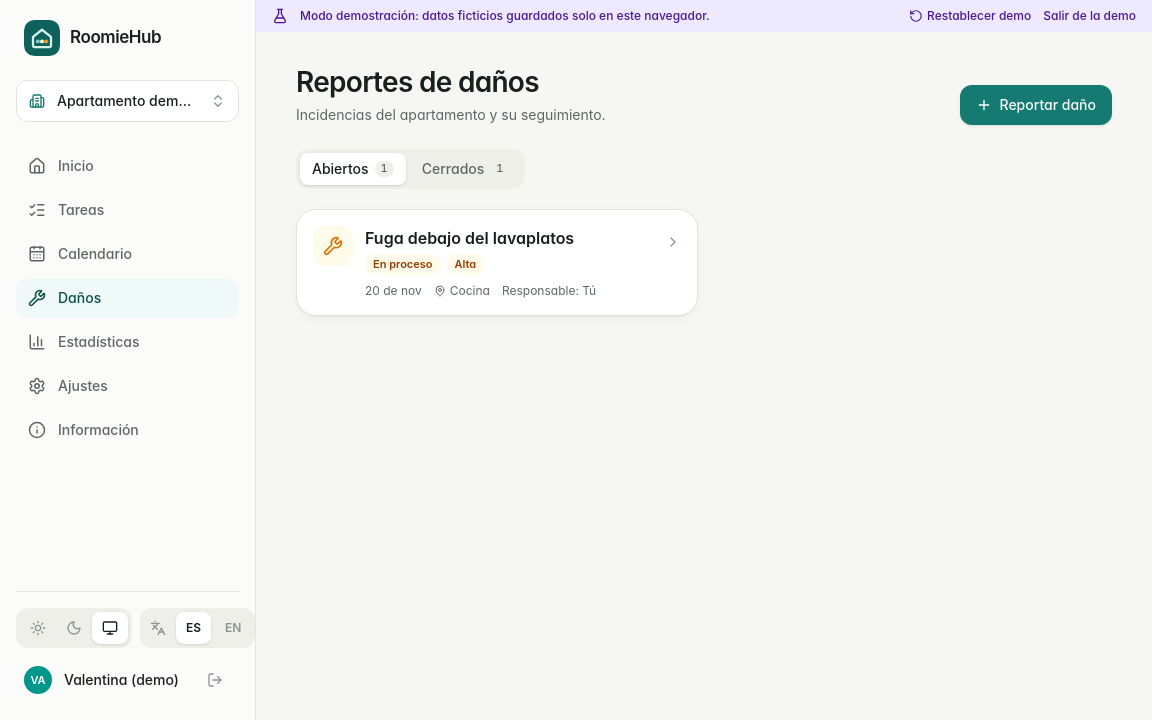
Test: maintenance › reports damage and shows it in the open list
expect the heading "Reportes de daños" is shown: met, box x1=296 y1=65 x2=539 y2=99
Click the button "Reportar daño" at (1036, 105), box x1=960 y1=85 x2=1112 y2=125
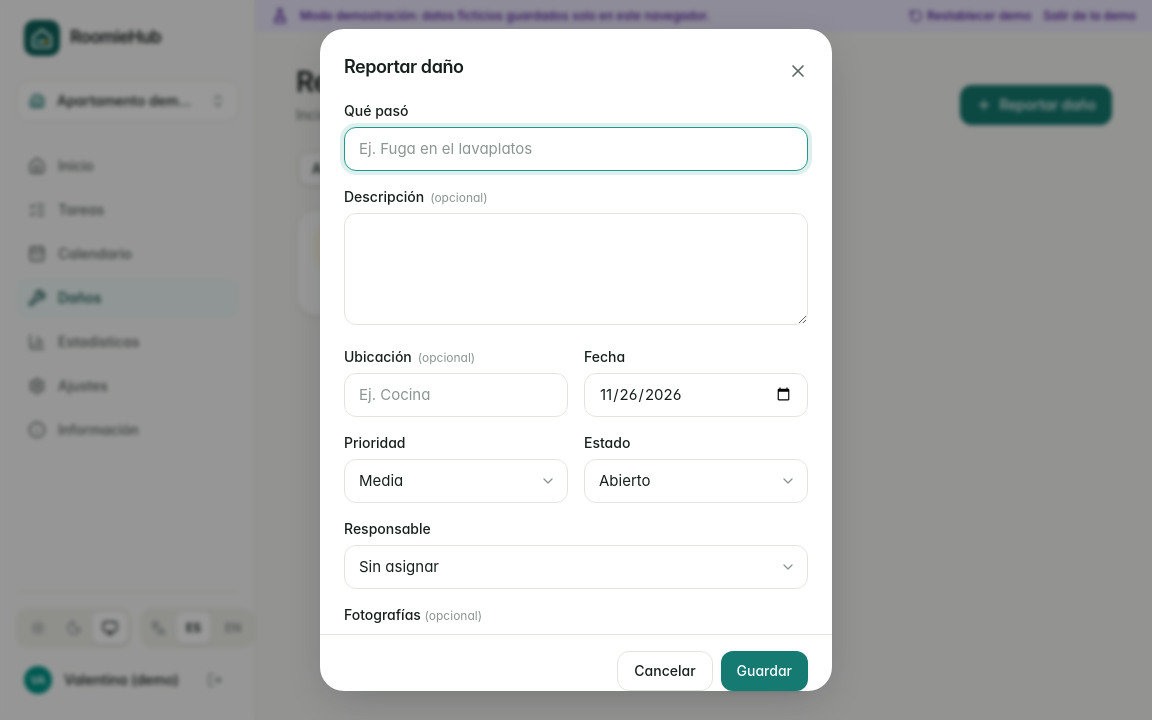
Type "Ventana rota" into the field labelled "Qué pasó" at (576, 149), box x1=344 y1=127 x2=808 y2=171
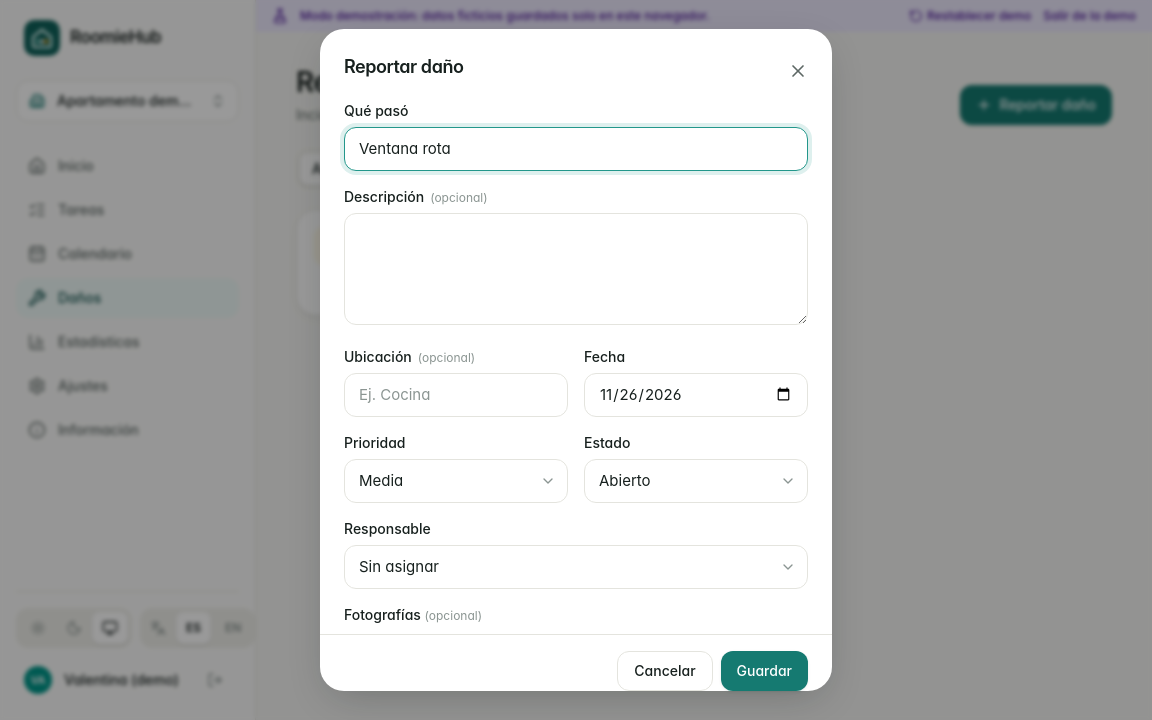
Click the button "Guardar" at (764, 671), box x1=721 y1=651 x2=808 y2=691
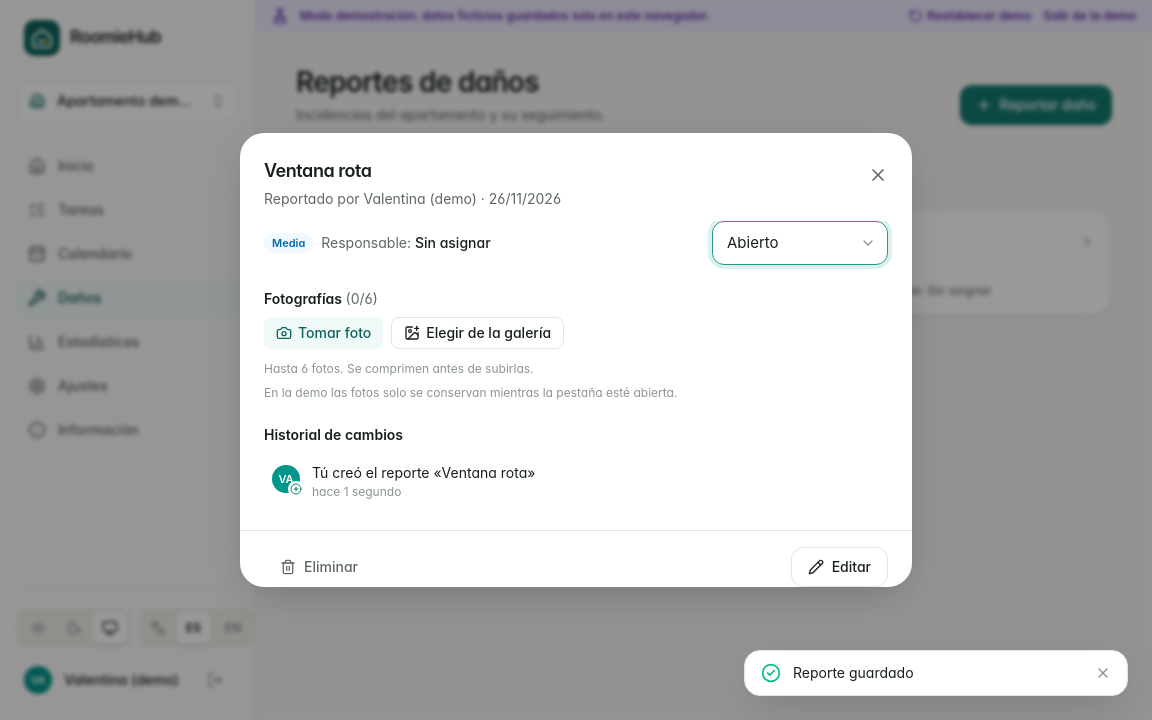
expect the dialog "Ventana rota" is shown: met, box x1=240 y1=133 x2=912 y2=587
